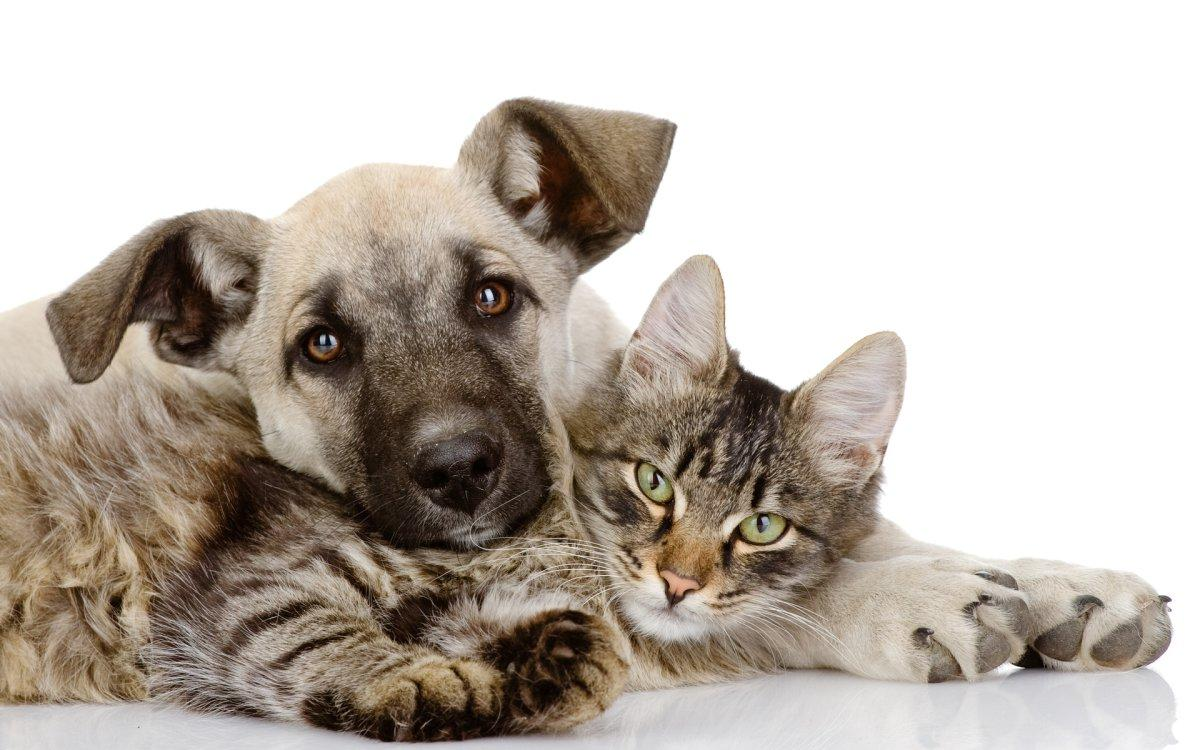animals: (42, 99, 673, 549), (576, 240, 926, 668)
